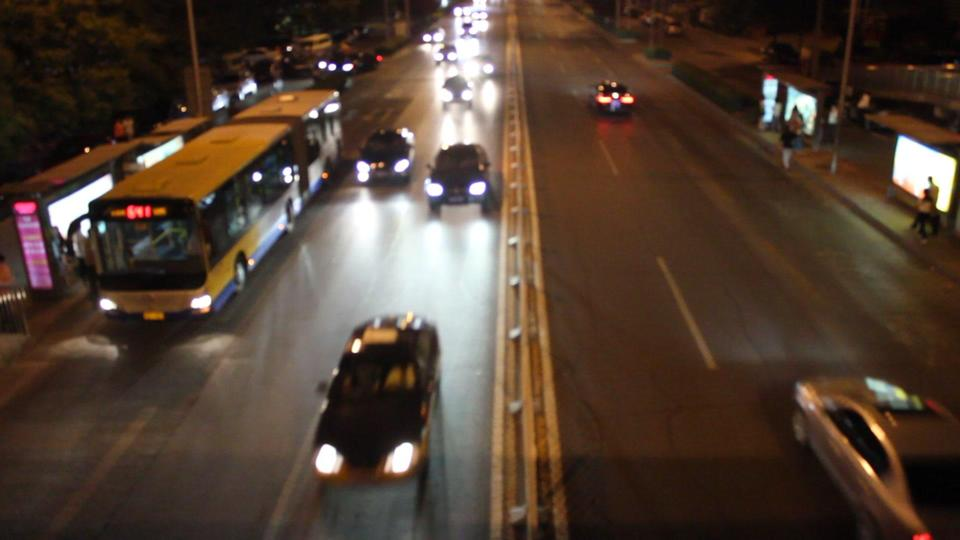bus: (65, 89, 342, 335)
car: (792, 369, 960, 540), (309, 313, 440, 490), (355, 126, 413, 190), (590, 78, 635, 118), (440, 74, 475, 113), (469, 51, 496, 80), (434, 44, 458, 67)
microbus: (291, 31, 333, 66)
suv: (421, 143, 497, 219)
